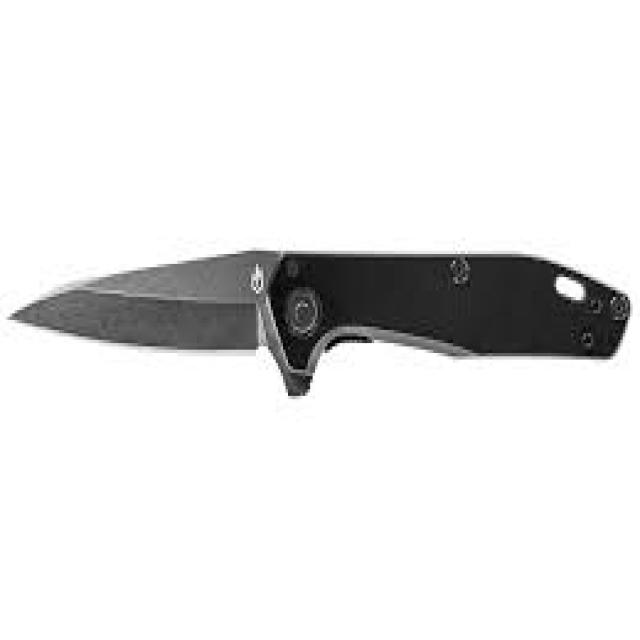knives: (3, 238, 635, 406)
